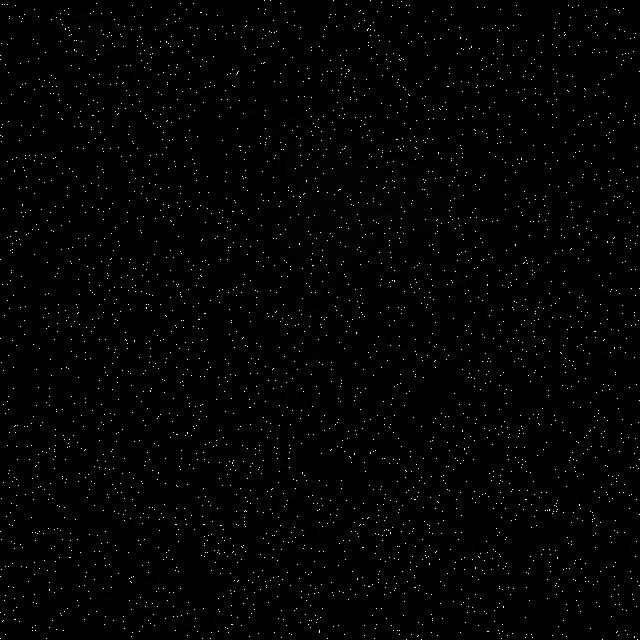adapter: (354, 261, 479, 450)
